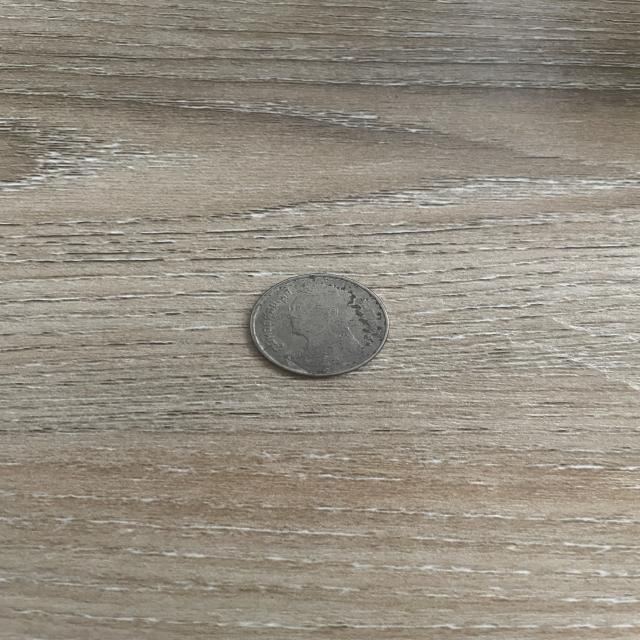1 Bath: (241, 267, 400, 388)
